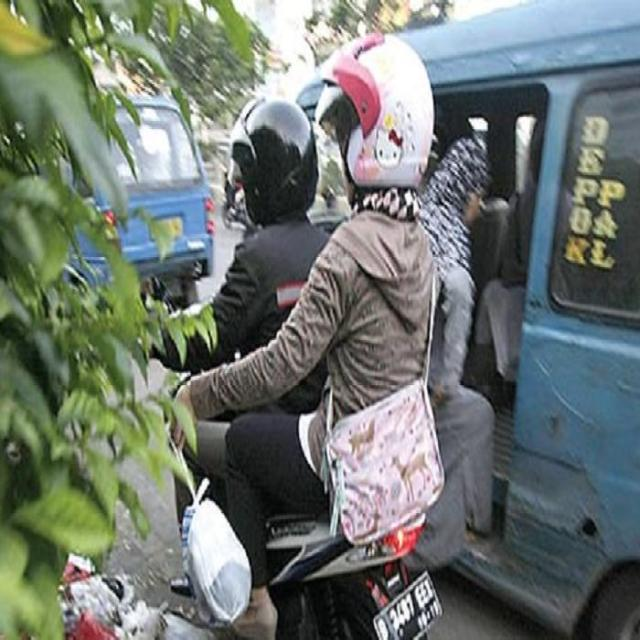sampah-detection: (164, 442, 254, 630), (53, 549, 164, 640)
